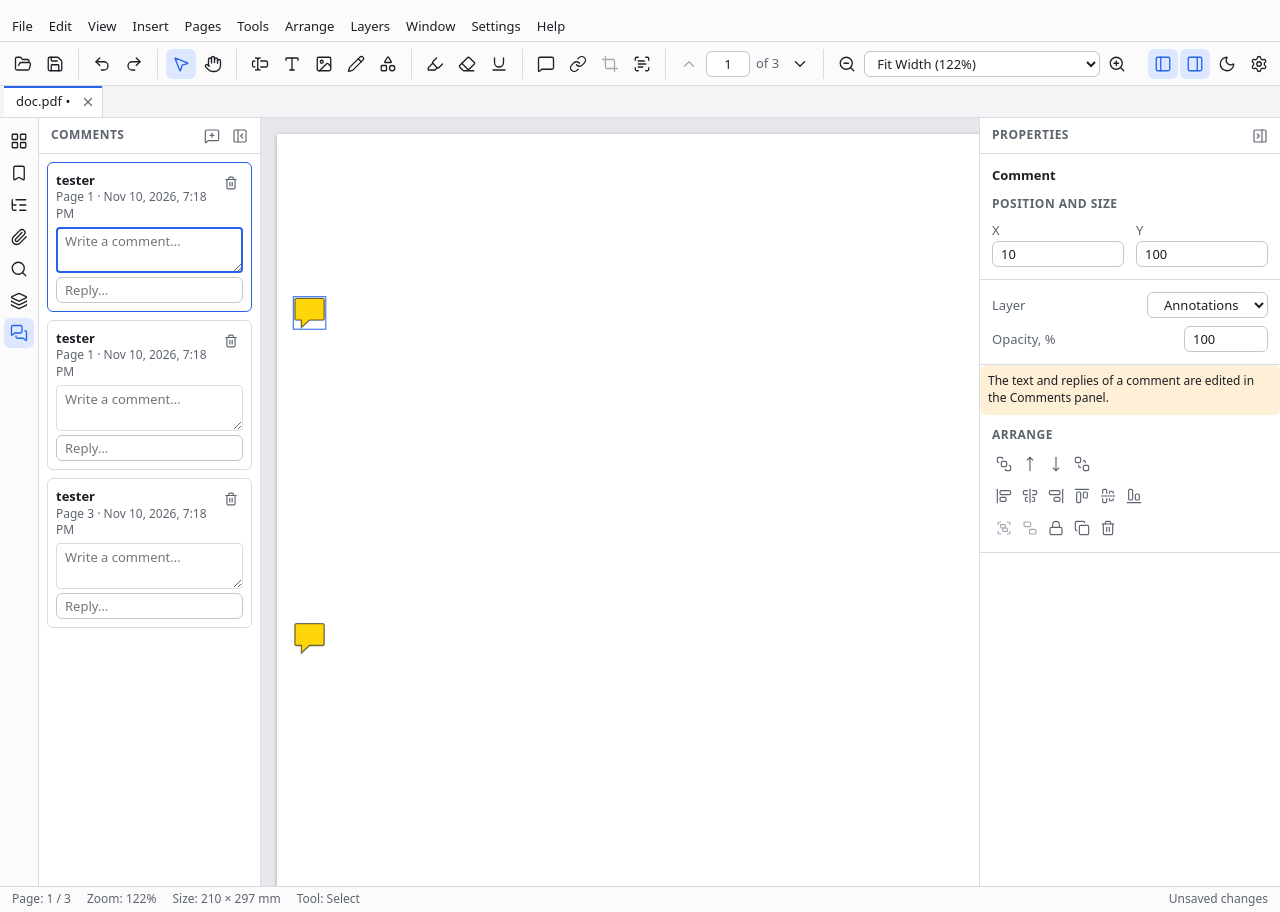
Test: comments › lists comments in reading order and jumps to their page
Expected: the tab "doc.pdf •" is shown, 4,86 -> 78,117
Click the button "tester Page 3 · Nov 10, 2026, 7:18 PM" at (136, 513), box 56,487 -> 215,539
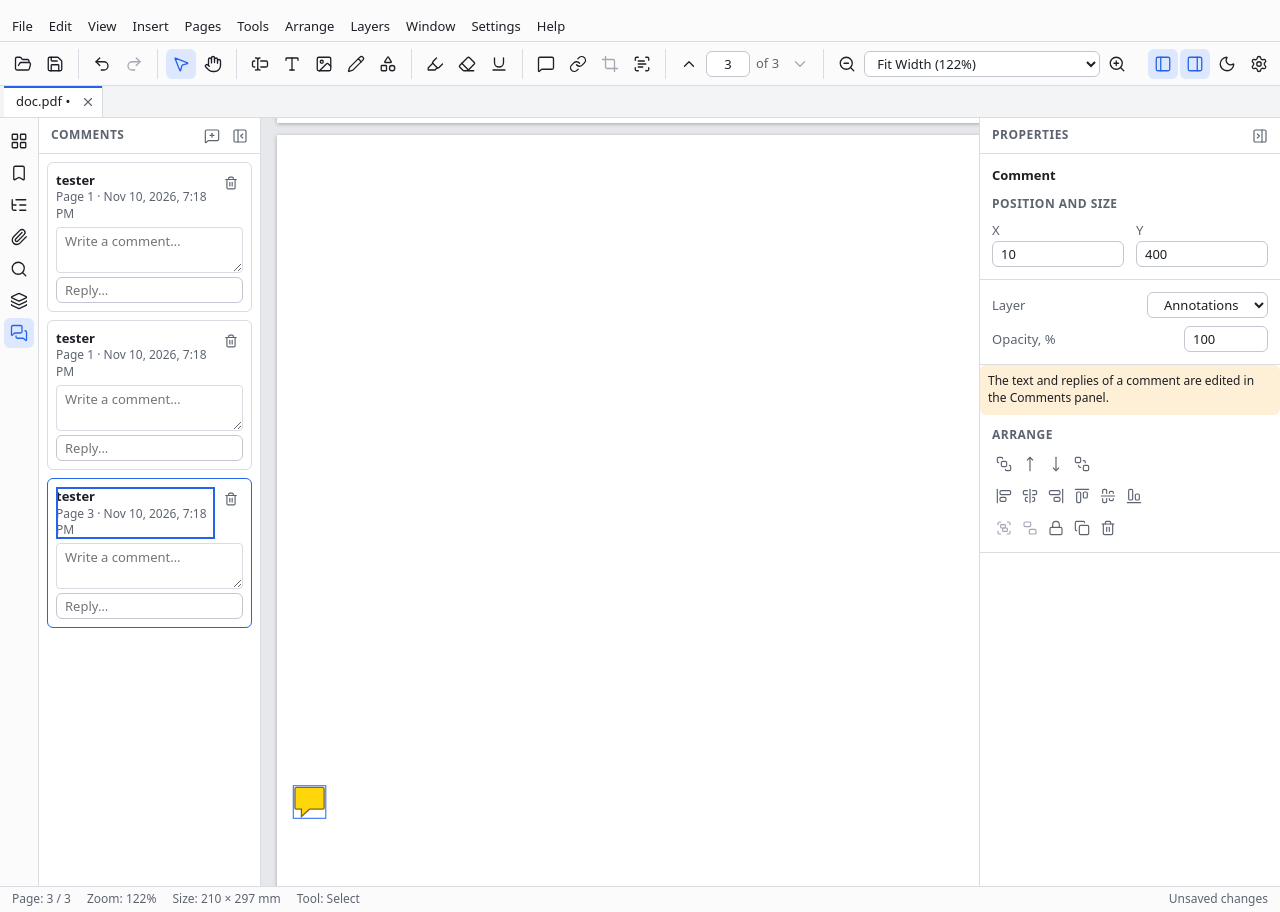
Now the element with test id "status-page" shows "3 / 3", box 46,890 -> 71,907
